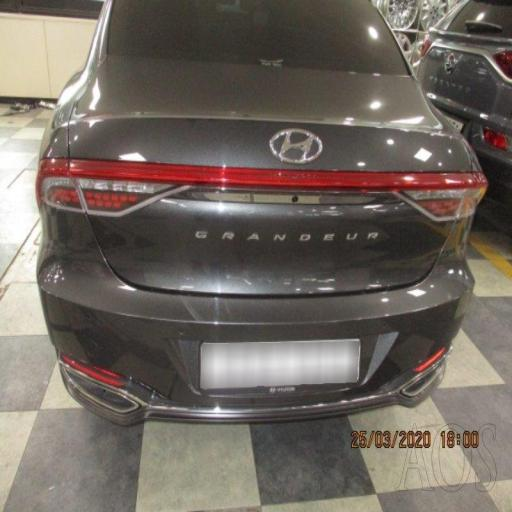scratch: (54, 164, 470, 401)
